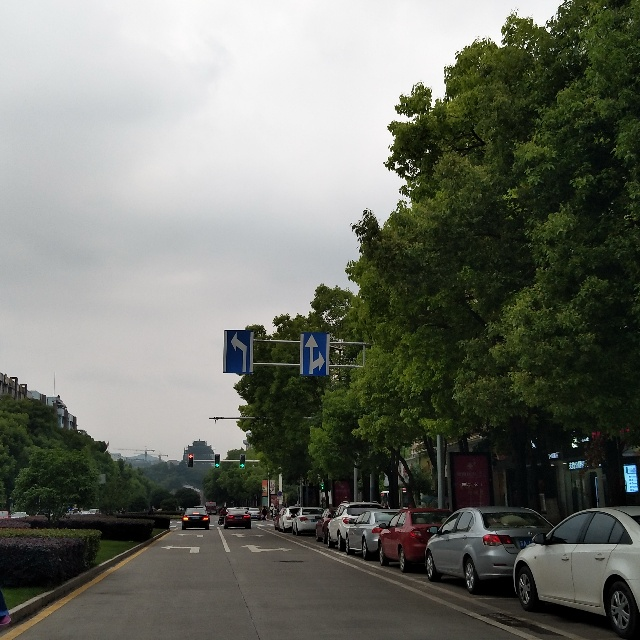left: (223, 330, 253, 374)
